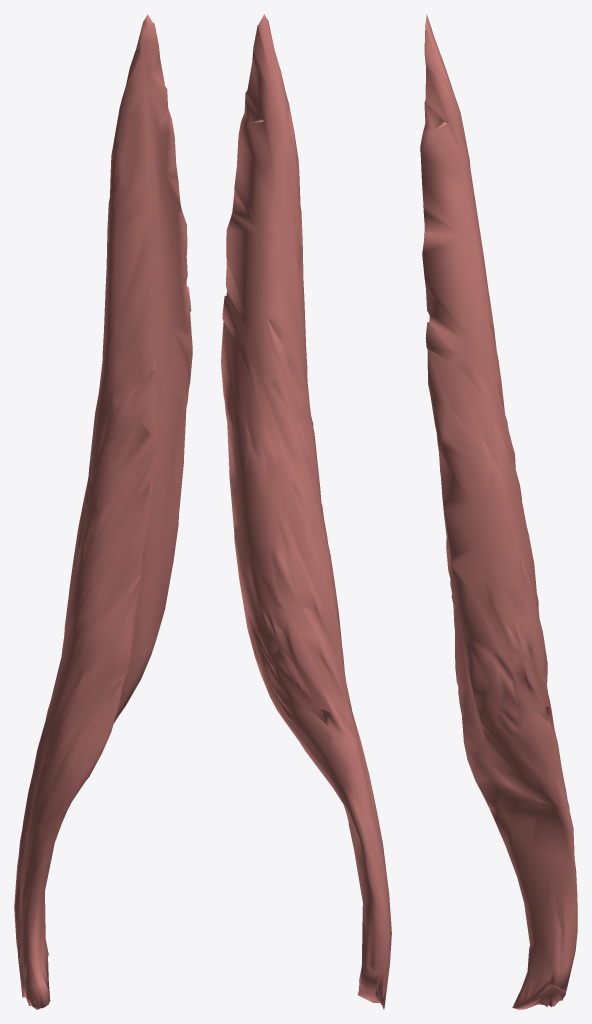
3 views of the same model, side by side, from view 1: azimuth 30°, elevation 25°; view 2: azimuth 210°, elevation 25°; view 3: azimuth 270°, elevation 25° (orthographic). The views are drawn at different scales.
Parts seen in each view (by area): view 1: ZA_584140037c07cc84; view 2: ZA_584140037c07cc84; view 3: ZA_584140037c07cc84.
Part boxes in pixels (bbox=[...]): ZA_584140037c07cc84: bbox=[14, 14, 192, 1009]; ZA_584140037c07cc84: bbox=[221, 14, 391, 1009]; ZA_584140037c07cc84: bbox=[420, 14, 577, 1009].
Size of the model in its own units: 0.0368 by 0.3013 by 0.0419.
